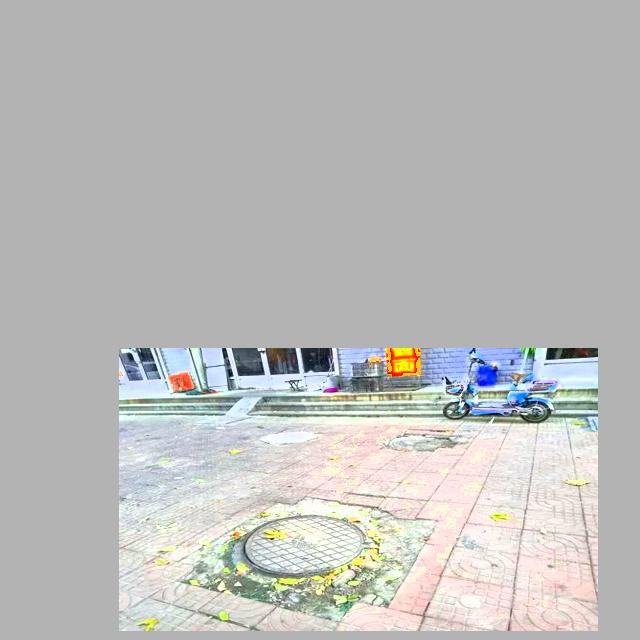circle: (196, 496, 426, 617)
